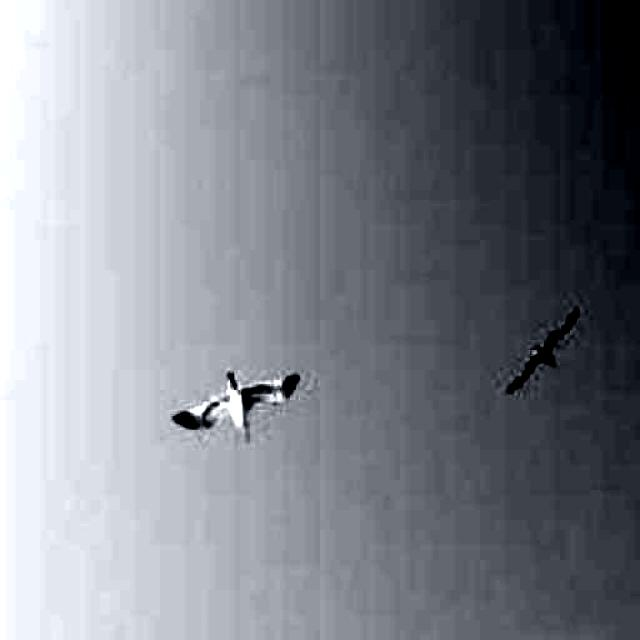airplane: (174, 371, 300, 445), (506, 308, 580, 398)
